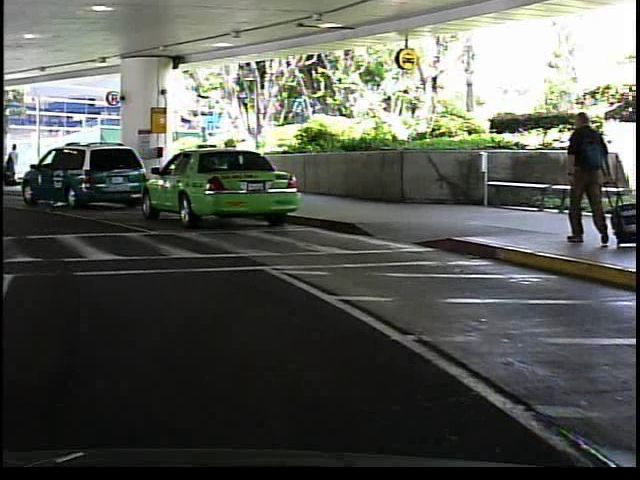person: (551, 103, 615, 256)
